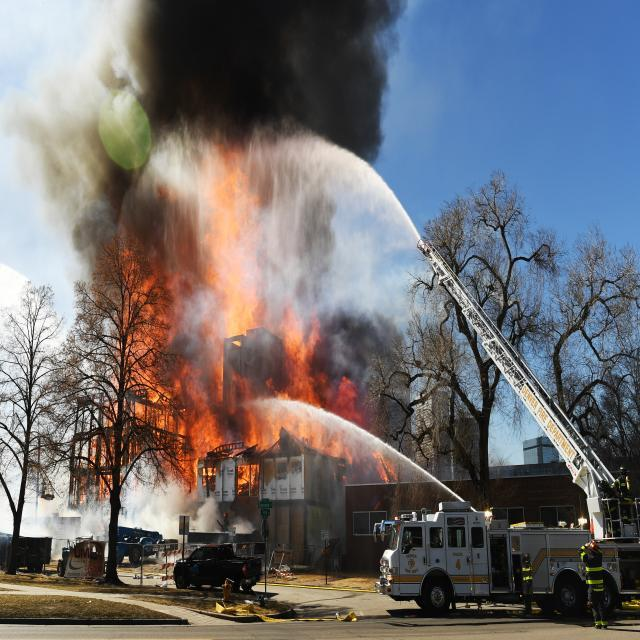Fire: (73, 232, 304, 494), (306, 381, 398, 506)
Smoke: (50, 0, 405, 230), (4, 496, 262, 581), (318, 300, 408, 374), (132, 304, 136, 306)
